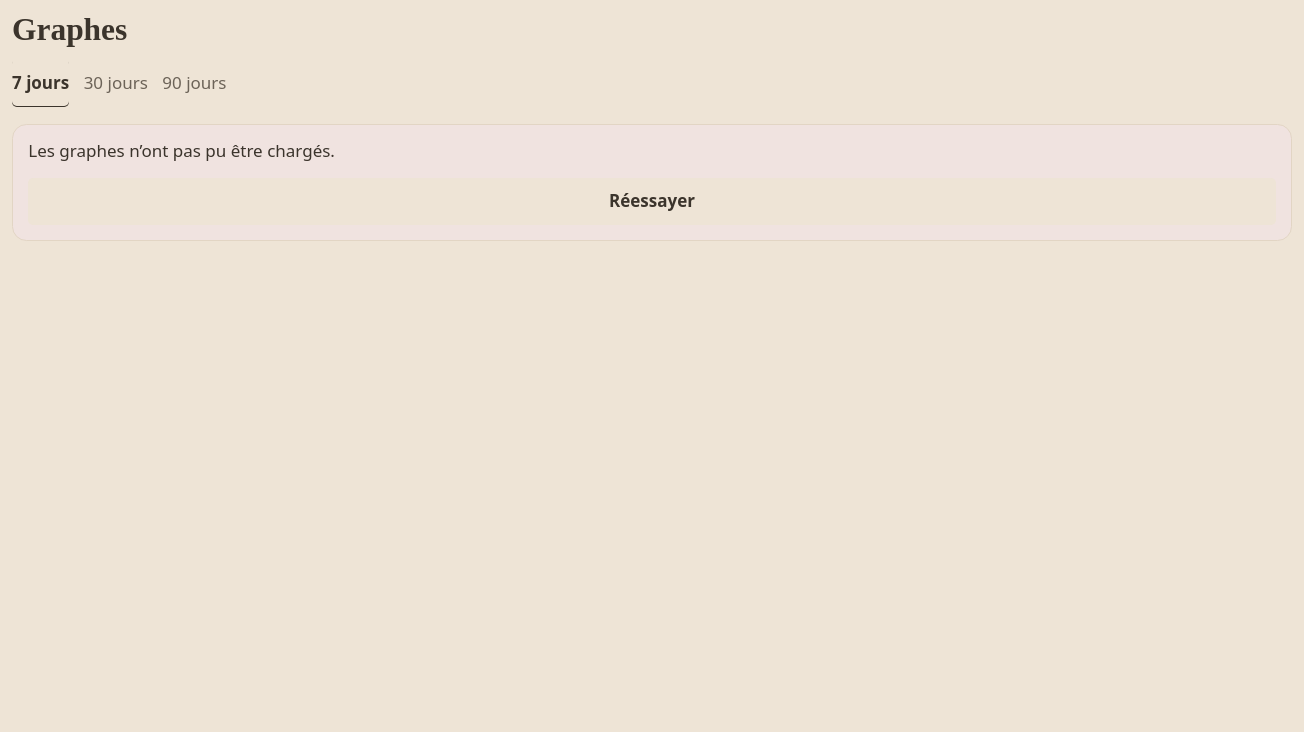
Test: ChartsPage › affiche une erreur et permet de réessayer
expect the text "Les graphes n’ont pas pu être chargés." is shown: met, box [28, 139, 335, 162]
Click the button "Réessayer": (652, 202) [28, 178, 1276, 225]
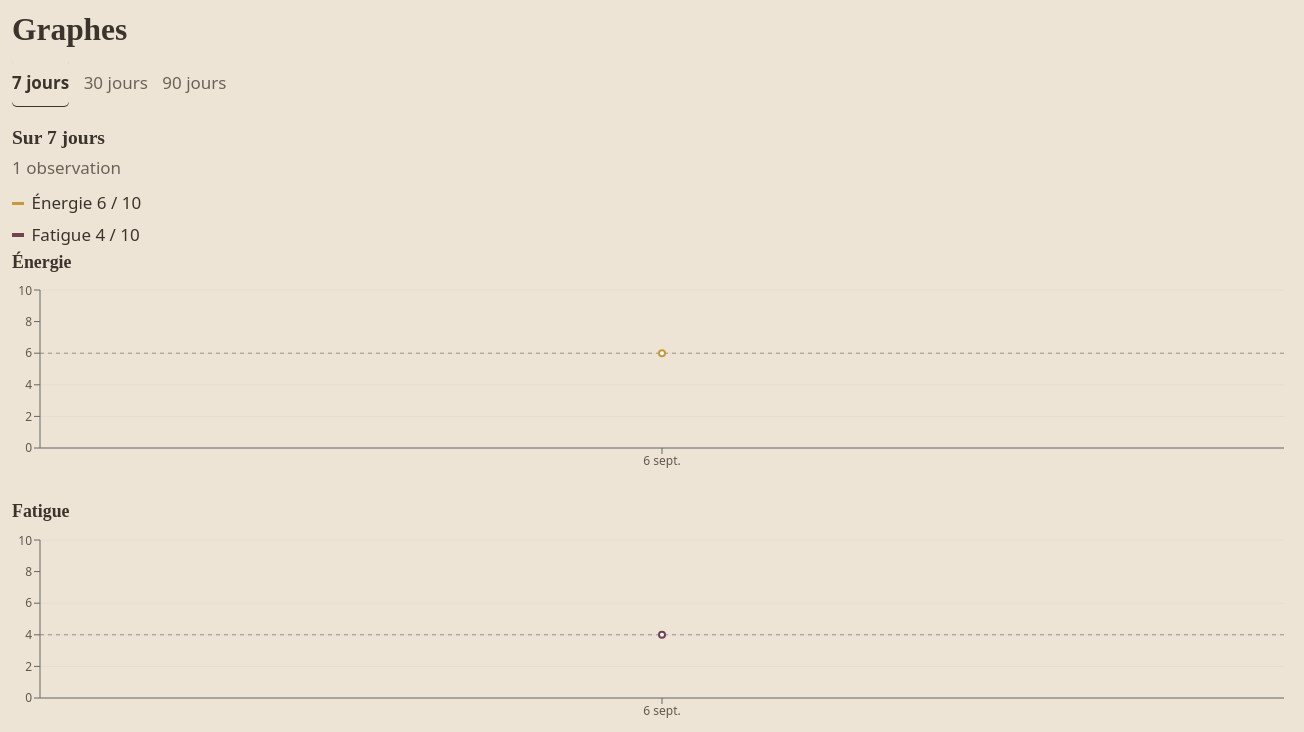
expect the heading "Énergie" is shown: met, box [12, 252, 72, 272]
